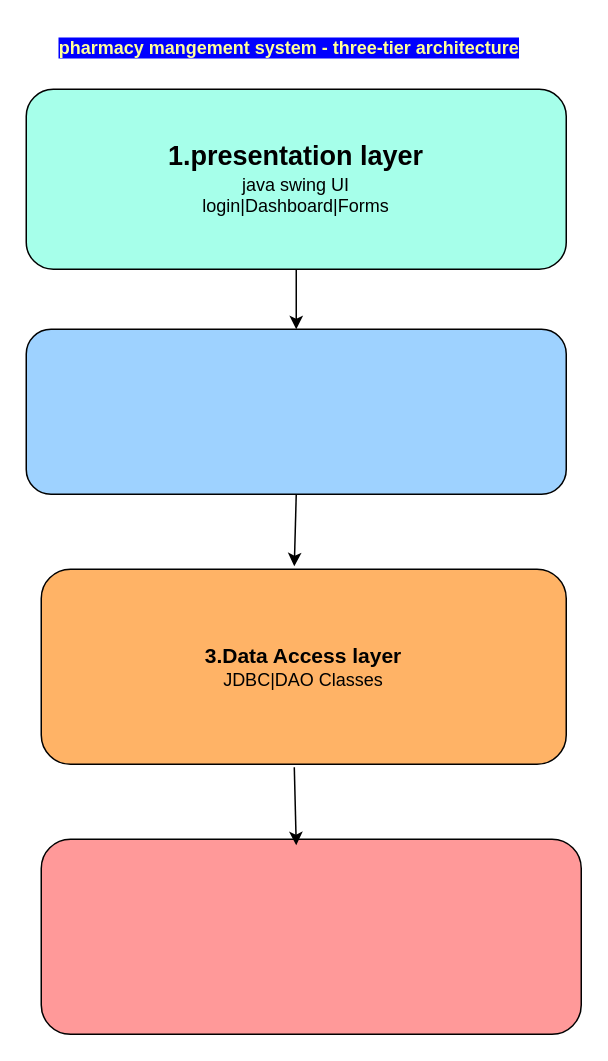
The diagram is 608 pixels wide and 1061 high, and some of its shapes have lost their labels. The centre of each missing label's shape, as x and y in pixels:
2.Business logic layer validation|services|Business Rules: [295,411]
4.Database layer Oracle Database 19c Tables|views|procedures: [310,936]
